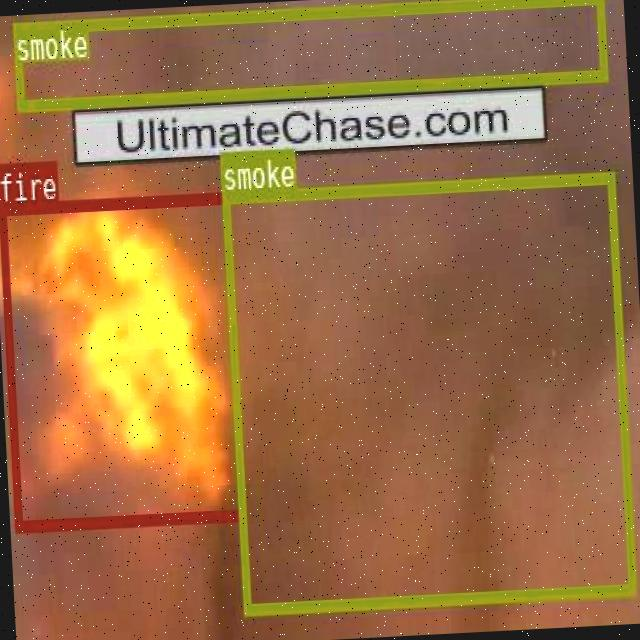fire: (0, 189, 244, 530)
smoke: (221, 171, 635, 615), (12, 0, 606, 109)
